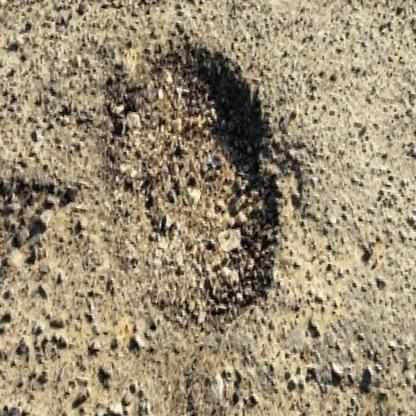pothole: (65, 24, 319, 345), (0, 159, 74, 290)
